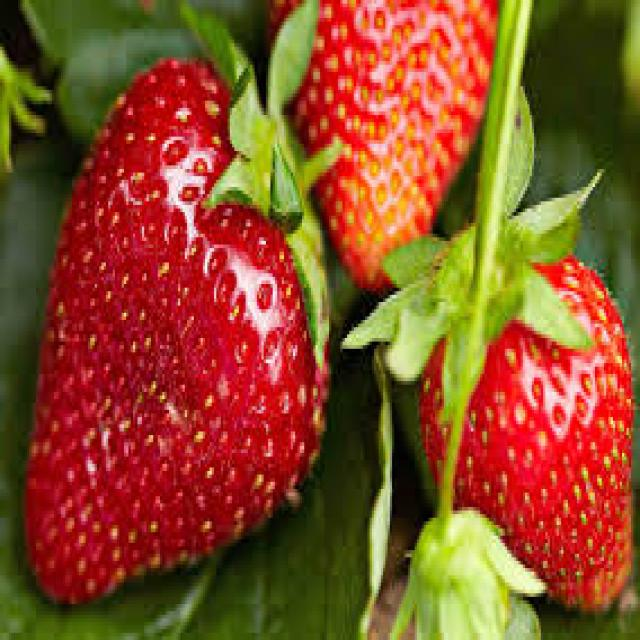strawberry: (21, 1, 327, 610), (384, 227, 634, 620)
